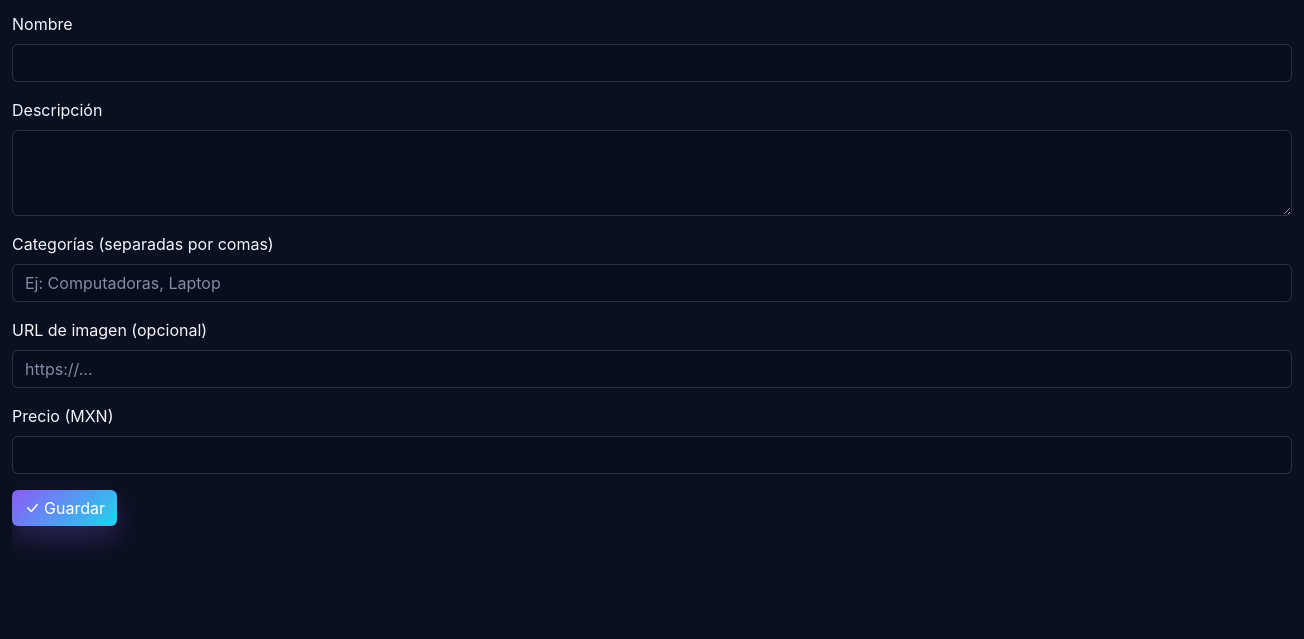
Scenario: AdminProductForm › categoría vacía muestra error de validación
Type "Producto Test" into the field labelled "Nombre".
click(652, 63); type("Producto Test")  # box [12, 44, 1292, 82]
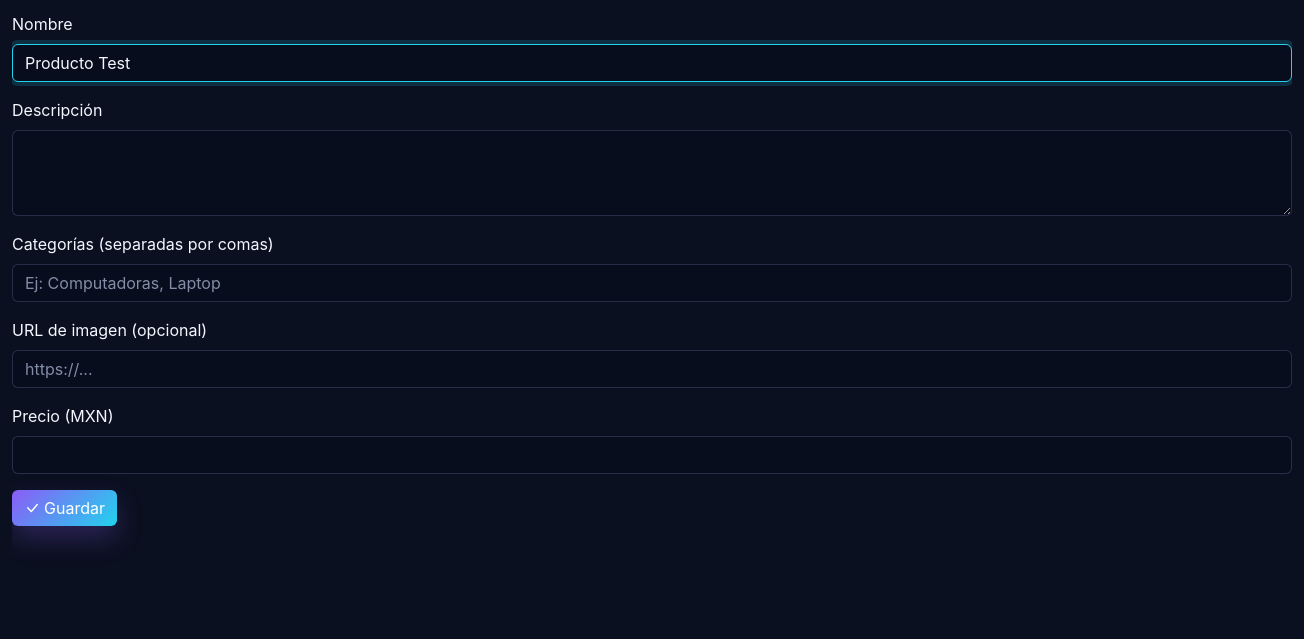
Type "Descripción test" into the text box labelled "Descripción".
click(652, 173); type("Descripción test")  # box [12, 130, 1292, 216]
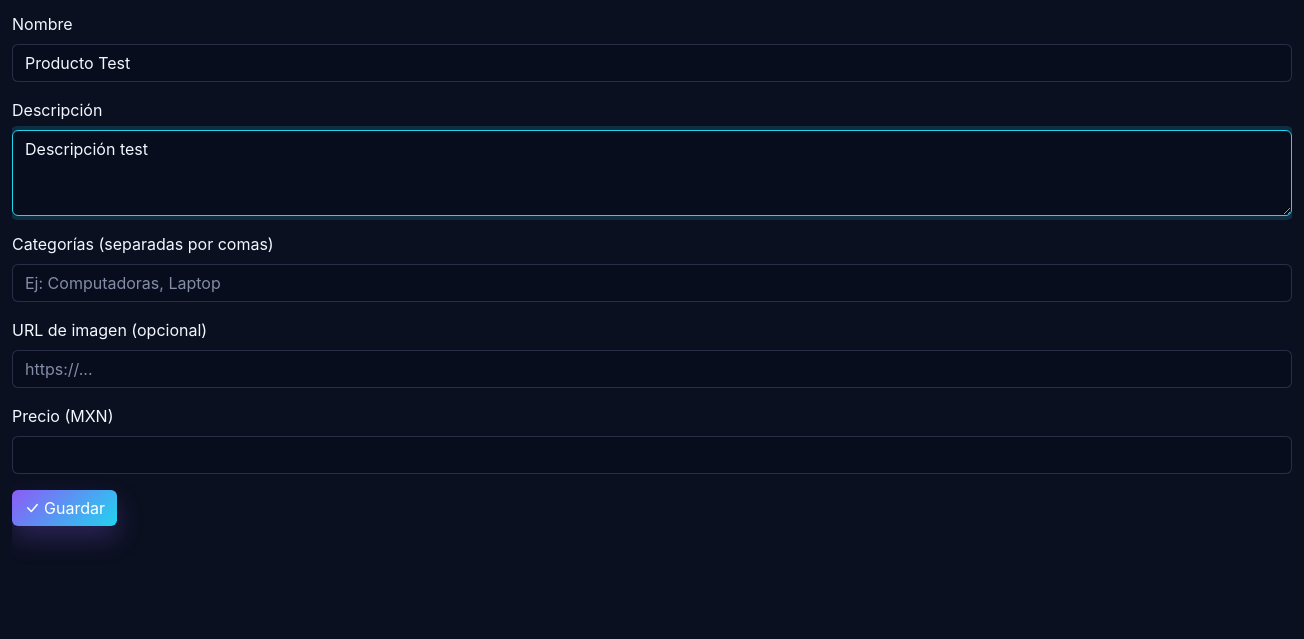
Type "50" into the number field labelled "Precio (MXN)".
click(652, 455); type("50")  # box [12, 436, 1292, 474]
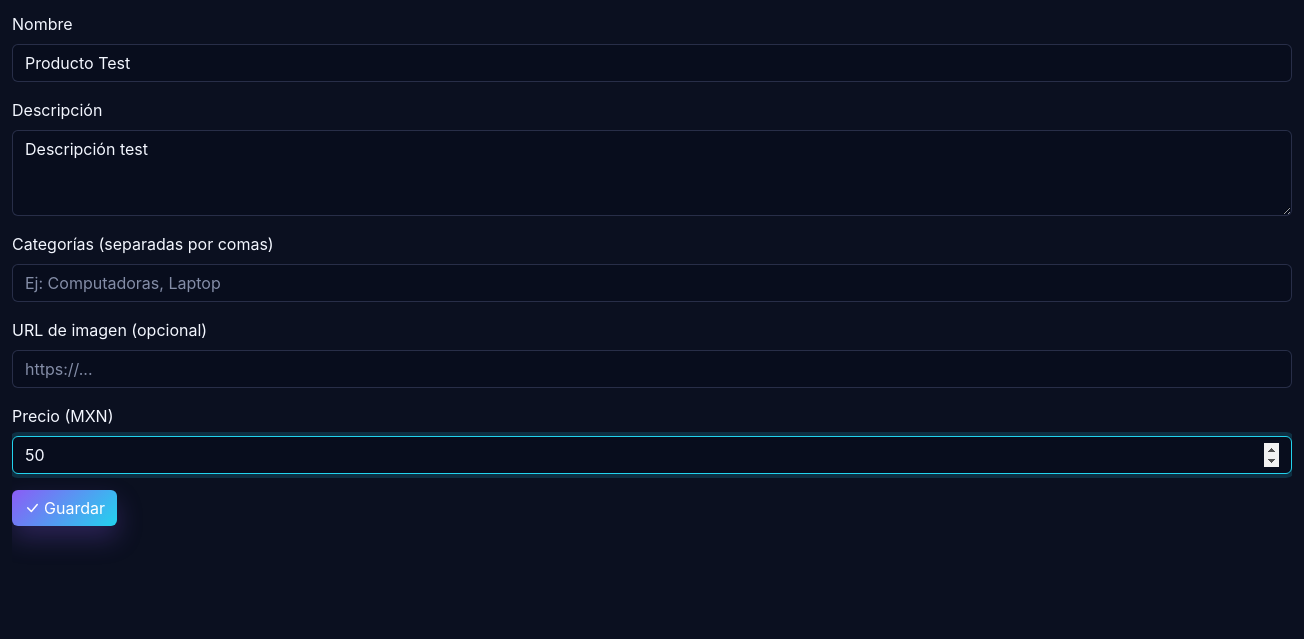
Submit the form named "Guardar"
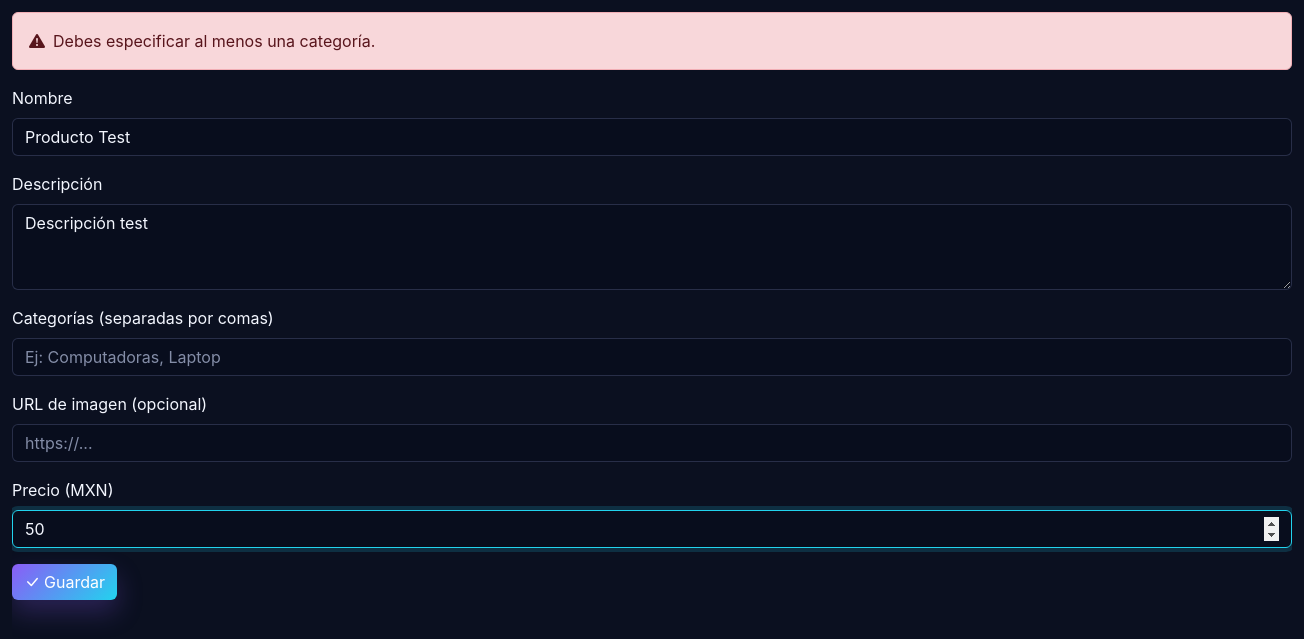
Expected: the text "Debes especificar al menos una categoría." is shown, [12, 12, 1292, 70]
